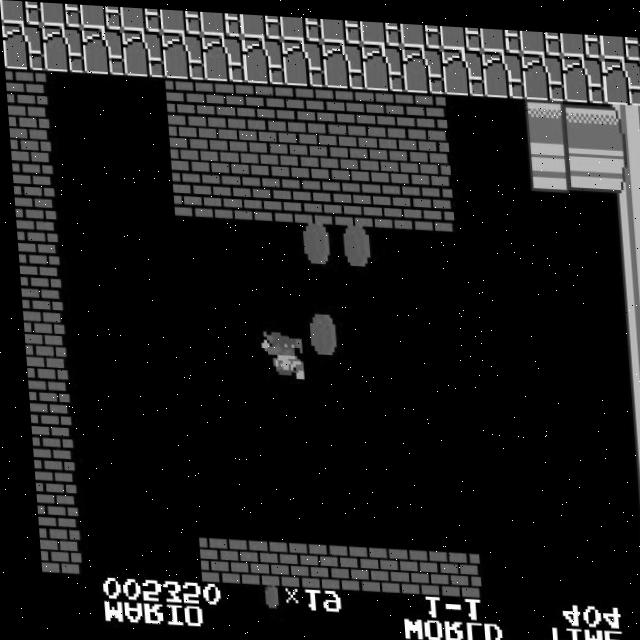1- brick_block: (190, 533, 234, 581), (166, 121, 210, 169), (163, 76, 207, 124), (230, 535, 274, 583), (206, 123, 250, 171), (203, 78, 247, 126), (270, 537, 314, 585), (246, 125, 290, 173), (243, 80, 287, 128), (286, 127, 330, 175), (350, 540, 394, 588), (326, 129, 370, 177), (323, 83, 367, 131), (390, 542, 434, 590), (366, 131, 410, 179), (363, 85, 407, 133), (430, 544, 474, 592), (406, 133, 450, 181), (403, 87, 447, 135), (310, 539, 354, 586), (283, 82, 327, 129), (20, 343, 63, 391), (12, 206, 55, 254), (4, 69, 47, 117), (28, 481, 71, 528), (25, 435, 68, 482), (17, 298, 60, 345), (9, 161, 52, 208), (169, 168, 212, 215), (209, 170, 252, 217), (249, 172, 292, 219), (329, 175, 372, 222), (369, 177, 412, 224), (409, 179, 452, 226), (31, 526, 73, 574), (23, 389, 65, 437), (15, 252, 57, 300), (289, 174, 332, 220), (7, 115, 49, 162)
11- little_mario: (253, 328, 299, 378)
14- pipe: (566, 140, 610, 188), (563, 95, 607, 142), (603, 97, 640, 145), (606, 143, 640, 190), (608, 189, 640, 236), (611, 234, 640, 282), (614, 280, 640, 328), (616, 326, 640, 373), (619, 371, 640, 419), (622, 417, 640, 465), (624, 463, 640, 510), (627, 509, 640, 556), (630, 554, 640, 602)
15- pipe_head: (526, 138, 570, 186), (523, 93, 567, 141)
17- undestructible_block: (1, 23, 44, 71), (41, 24, 84, 72), (81, 26, 124, 74), (121, 28, 164, 76), (161, 30, 204, 78), (201, 32, 244, 80), (241, 34, 284, 82), (321, 37, 364, 85), (361, 39, 404, 87), (401, 41, 444, 89), (441, 43, 484, 91), (481, 45, 524, 93), (521, 47, 564, 95), (281, 36, 324, 83), (561, 49, 604, 96), (600, 51, 640, 99), (40, 2, 82, 27), (80, 4, 122, 29), (160, 7, 202, 32), (200, 9, 242, 34), (240, 11, 282, 36), (280, 13, 322, 38), (320, 15, 362, 40), (360, 17, 402, 42), (400, 19, 442, 44), (440, 20, 482, 45), (480, 22, 522, 47), (520, 24, 562, 49), (560, 26, 602, 51), (120, 6, 162, 30), (0, 1, 41, 25), (599, 29, 640, 53)
2- coin: (331, 220, 375, 268), (291, 219, 335, 266), (297, 310, 340, 358)
